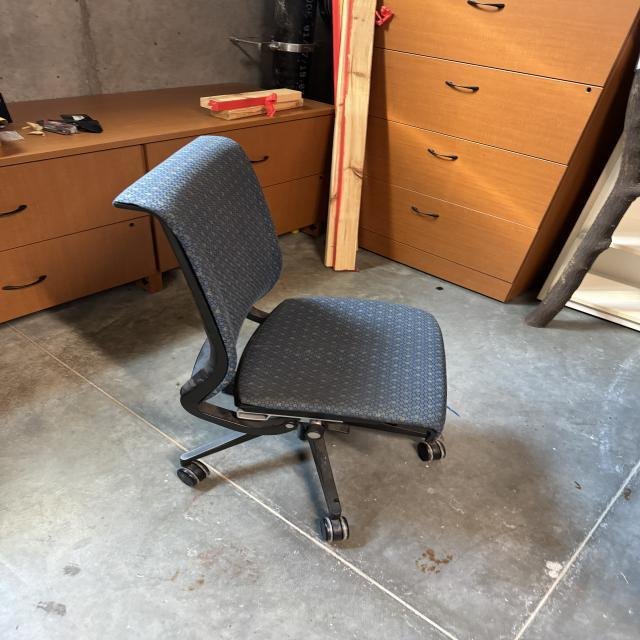chair: (110, 135, 457, 548)
